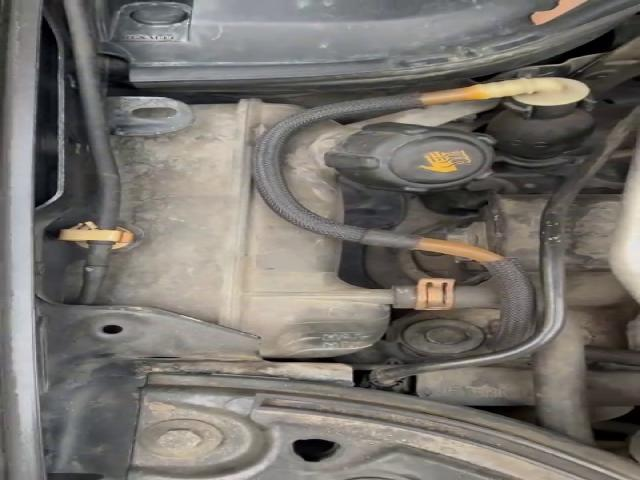antifreeze_tank: (106, 99, 400, 357), (283, 122, 495, 220)
